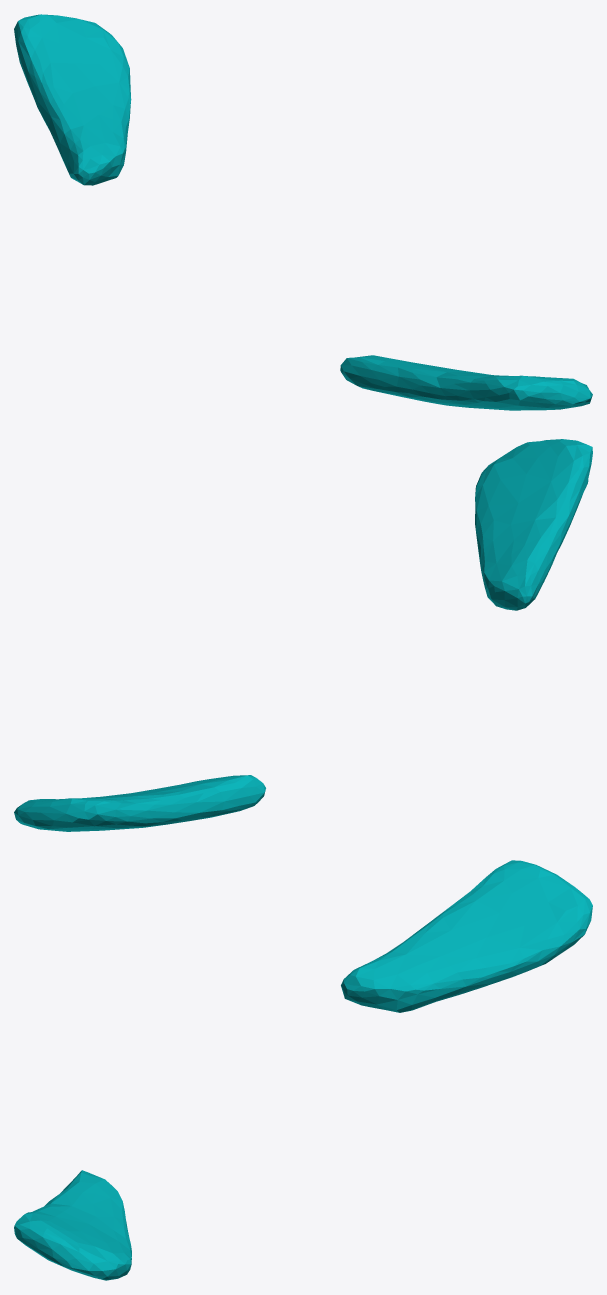
3 renders of one model, top to bottom at view 1: azimuth 30°, elevation 25°; view 2: azimuth 150°, elevation 25°; view 3: azimuth 330°, elevation 25°, orthographic.
Parts seen in each view (by area): view 1: 312782566.obj; view 2: 312782566.obj; view 3: 312782566.obj.
Part boxes in pixels (box(x1,y1,x2,y2)): 312782566.obj: box(14, 14, 592, 410); 312782566.obj: box(14, 439, 592, 831); 312782566.obj: box(14, 860, 592, 1280).
Bounding box in the file's own units: 807 × 427 × 4904.
